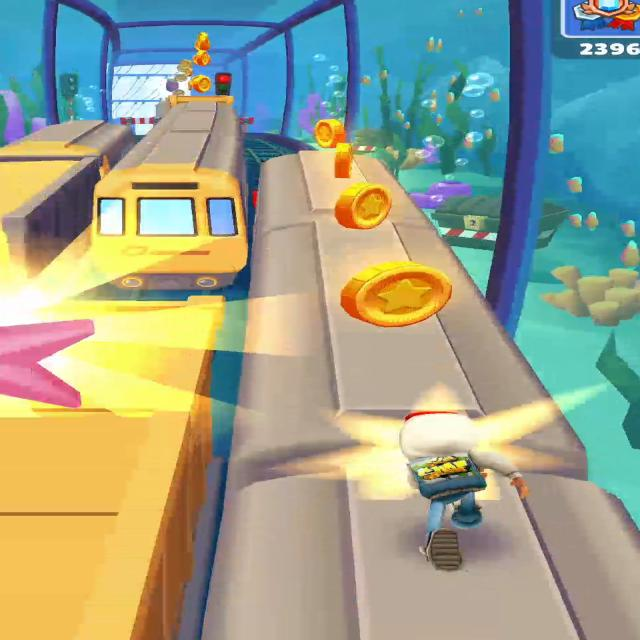blocker: (121, 115, 159, 126)
train: (89, 97, 250, 292), (0, 120, 133, 277)
